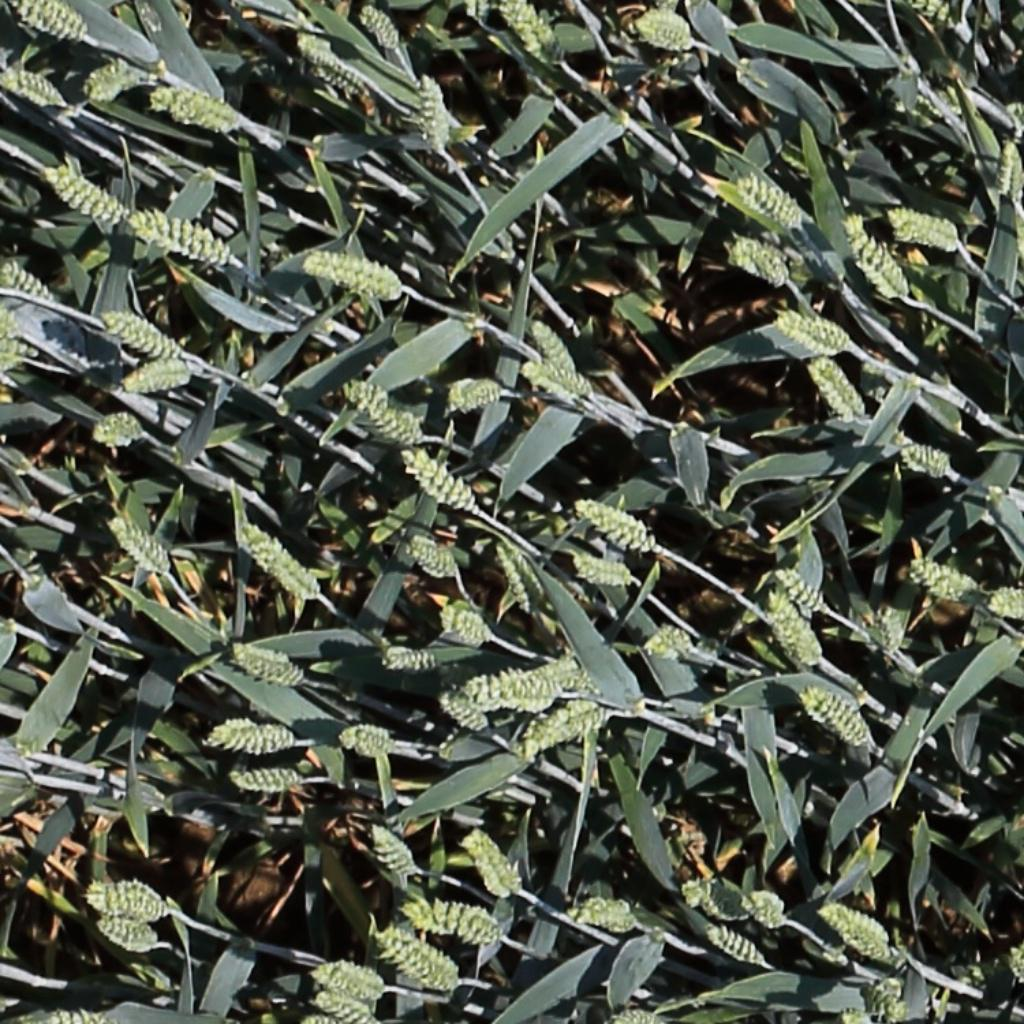0-0: (236, 522, 323, 602), (845, 208, 914, 300), (125, 210, 232, 262), (288, 22, 366, 93), (765, 584, 826, 673), (376, 928, 457, 992), (342, 379, 421, 443), (404, 447, 479, 514), (43, 162, 125, 223), (574, 498, 659, 555), (517, 704, 604, 757), (462, 828, 524, 901), (802, 686, 872, 750), (811, 352, 871, 424), (102, 308, 184, 360), (464, 664, 570, 704), (107, 514, 173, 578), (492, 536, 543, 618), (821, 906, 903, 957), (303, 252, 402, 293), (151, 84, 243, 128), (502, 1, 563, 64), (527, 312, 581, 382), (738, 172, 805, 226), (682, 869, 751, 920), (626, 6, 702, 52), (365, 821, 420, 883), (401, 905, 498, 940), (776, 311, 857, 352), (230, 644, 307, 686), (122, 354, 211, 390), (417, 66, 451, 158), (731, 236, 793, 286), (775, 565, 832, 617), (907, 558, 976, 599), (891, 207, 963, 245), (15, 1, 84, 40), (707, 924, 768, 968), (521, 361, 595, 397), (87, 890, 172, 921), (549, 651, 607, 695), (356, 1, 404, 54), (0, 256, 54, 303), (643, 618, 698, 664), (0, 68, 66, 106), (92, 914, 159, 950), (36, 998, 126, 1024), (311, 966, 386, 996), (569, 894, 637, 927), (230, 726, 301, 757), (408, 537, 461, 578), (92, 410, 144, 450), (441, 692, 491, 733), (341, 715, 393, 753), (316, 989, 374, 1022), (879, 600, 909, 662), (442, 606, 492, 643), (865, 975, 905, 1021), (0, 302, 25, 374), (899, 442, 953, 475), (573, 555, 634, 584), (84, 66, 139, 98), (998, 132, 1022, 204), (745, 892, 789, 929), (232, 765, 297, 790), (450, 382, 503, 412), (382, 642, 434, 669), (990, 579, 1024, 617), (916, 0, 959, 28), (464, 0, 494, 34), (832, 1004, 878, 1024), (614, 1011, 658, 1024)
